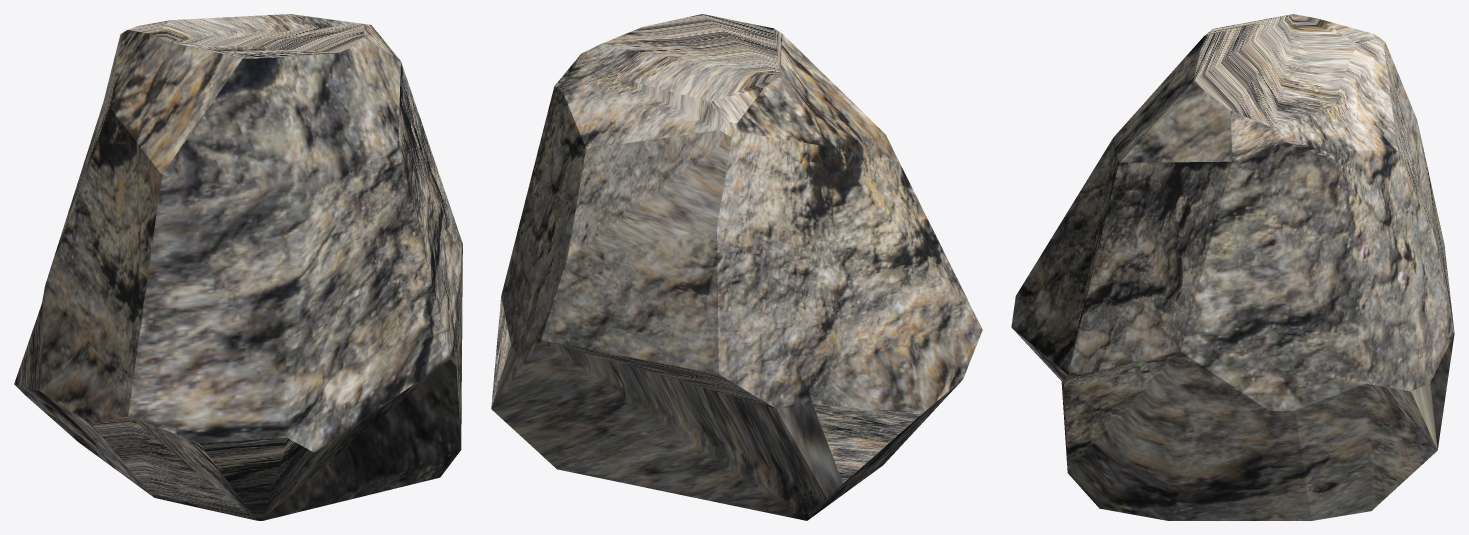
Rendered from pedraMenorI.fbx.
The picture shows the model from 3 angles, left to right: view 1: azimuth 30°, elevation 25°; view 2: azimuth 150°, elevation 25°; view 3: azimuth 270°, elevation 25°; orthographic projection.
Parts seen in each view (by area): view 1: Cube; view 2: Cube; view 3: Cube.
Part boxes in pixels (<box>): Cube: <box>14,14,462,520</box>; Cube: <box>491,14,982,520</box>; Cube: <box>1011,14,1454,520</box>.
Size of the model in its own units: 169 by 174 by 170.
Materials: 1 (1 with a texture image).
